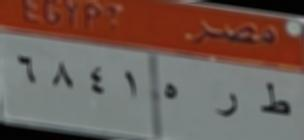1: (117, 67, 142, 102)
4: (86, 62, 107, 98)
6: (12, 48, 41, 91)
8: (47, 54, 75, 96)
Taa: (255, 78, 292, 124)
haa: (160, 78, 181, 107)
raa: (215, 92, 240, 125)
